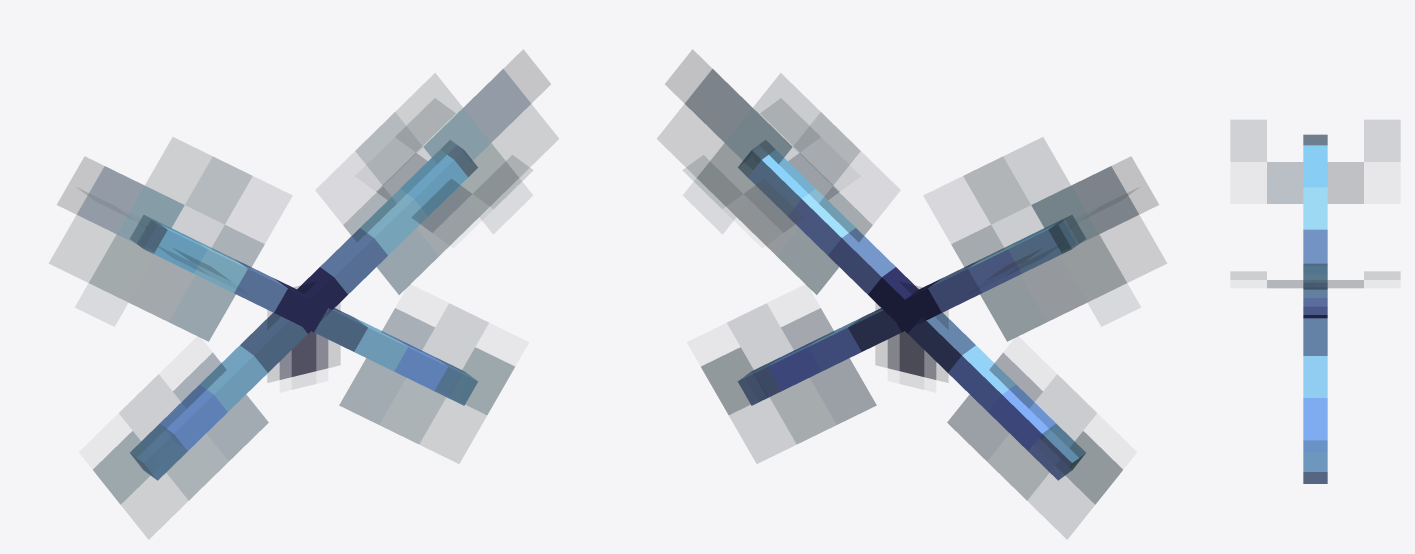
The model's file is sl_ice_staff.glb.
3 views of the same model, side by side, from view 1: azimuth 30°, elevation 25°; view 2: azimuth 150°, elevation 25°; view 3: azimuth 270°, elevation 25° (orthographic). The views are drawn at different scales.
Parts seen in each view (by area): view 1: bb_ice_staff; view 2: bb_ice_staff; view 3: bb_ice_staff.
Part boxes in pixels (x1,y1,x2,y2): bb_ice_staff: (49, 50, 558, 538); bb_ice_staff: (657, 50, 1166, 538); bb_ice_staff: (1231, 120, 1399, 483).
Bounding box in the file's own units: 2.96 × 2.16 × 0.875.
Materials: 1 (1 with a texture image).
